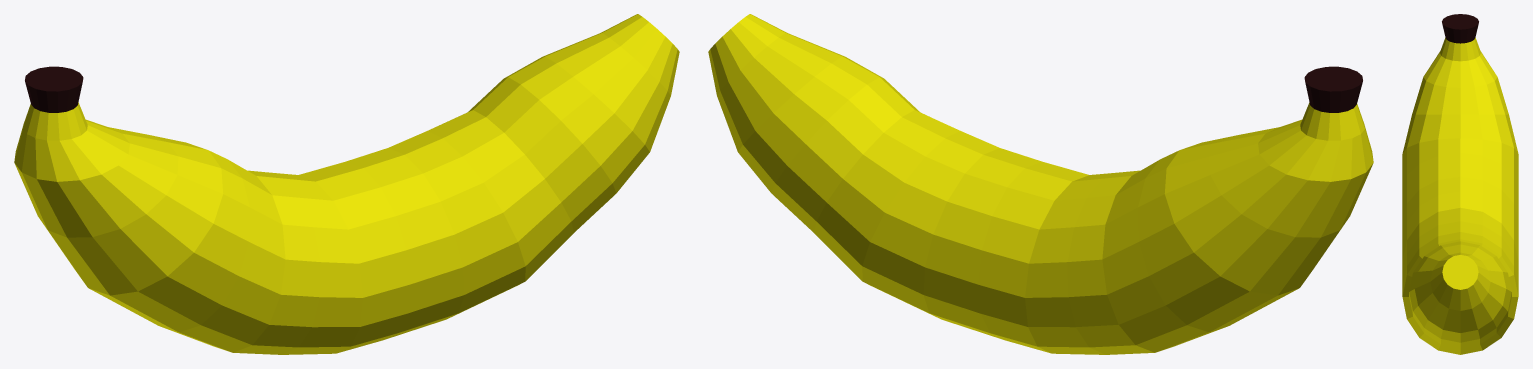
File: banana.glb
The picture shows the model from 3 angles, left to right: view 1: azimuth 30°, elevation 25°; view 2: azimuth 150°, elevation 25°; view 3: azimuth 270°, elevation 25°; orthographic projection. The views are drawn at different scales.
Parts seen in each view (by area): view 1: Circle; view 2: Circle; view 3: Circle.
Boxes of the visible parts, x1,y1,x2,y2 form: Circle: (14,14,679,354); Circle: (708,14,1373,354); Circle: (1402,14,1518,354).
Bounding box in the file's own units: 3.95 × 1.93 × 0.9622.
